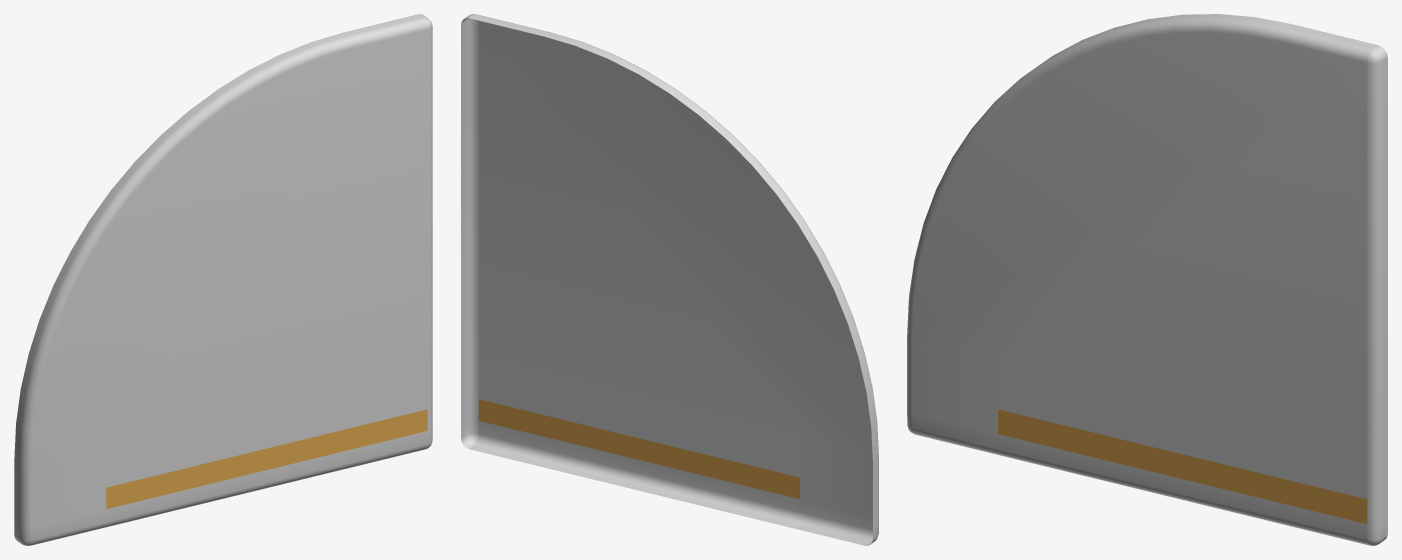
Rendered from lab_set_round_panel_000.fbx.
3 renders of one model, left to right at view 1: azimuth 30°, elevation 25°; view 2: azimuth 150°, elevation 25°; view 3: azimuth 330°, elevation 25°, orthographic. The views are drawn at different scales.
Visible parts, largest first — view 1: round_panel.000; view 2: round_panel.000; view 3: round_panel.000.
Part boxes in pixels (left/top/right/bottom): round_panel.000: left=14, top=14, right=432, bottom=545; round_panel.000: left=461, top=14, right=878, bottom=545; round_panel.000: left=907, top=14, right=1387, bottom=545.
Size of the model in its own units: 50 by 50 by 2.
